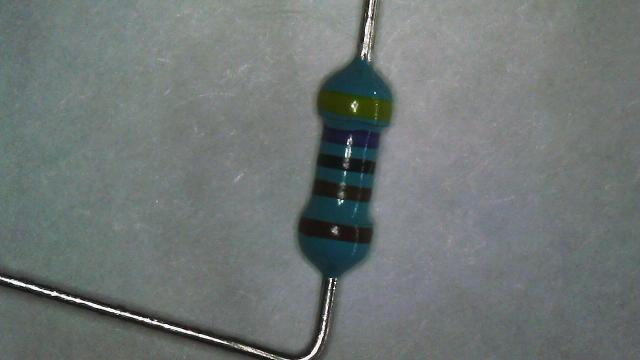black: (317, 153, 375, 174)
brown: (298, 217, 372, 244), (313, 178, 372, 202)
resistor: (281, 45, 406, 282)
violet: (322, 127, 379, 148)
yellow: (318, 89, 392, 122)
